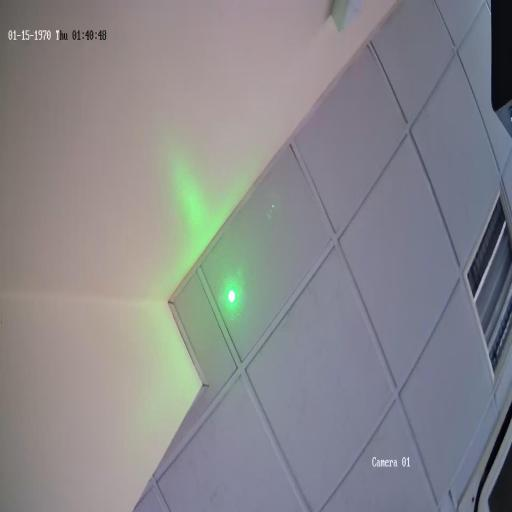laser: (225, 284, 239, 309)
